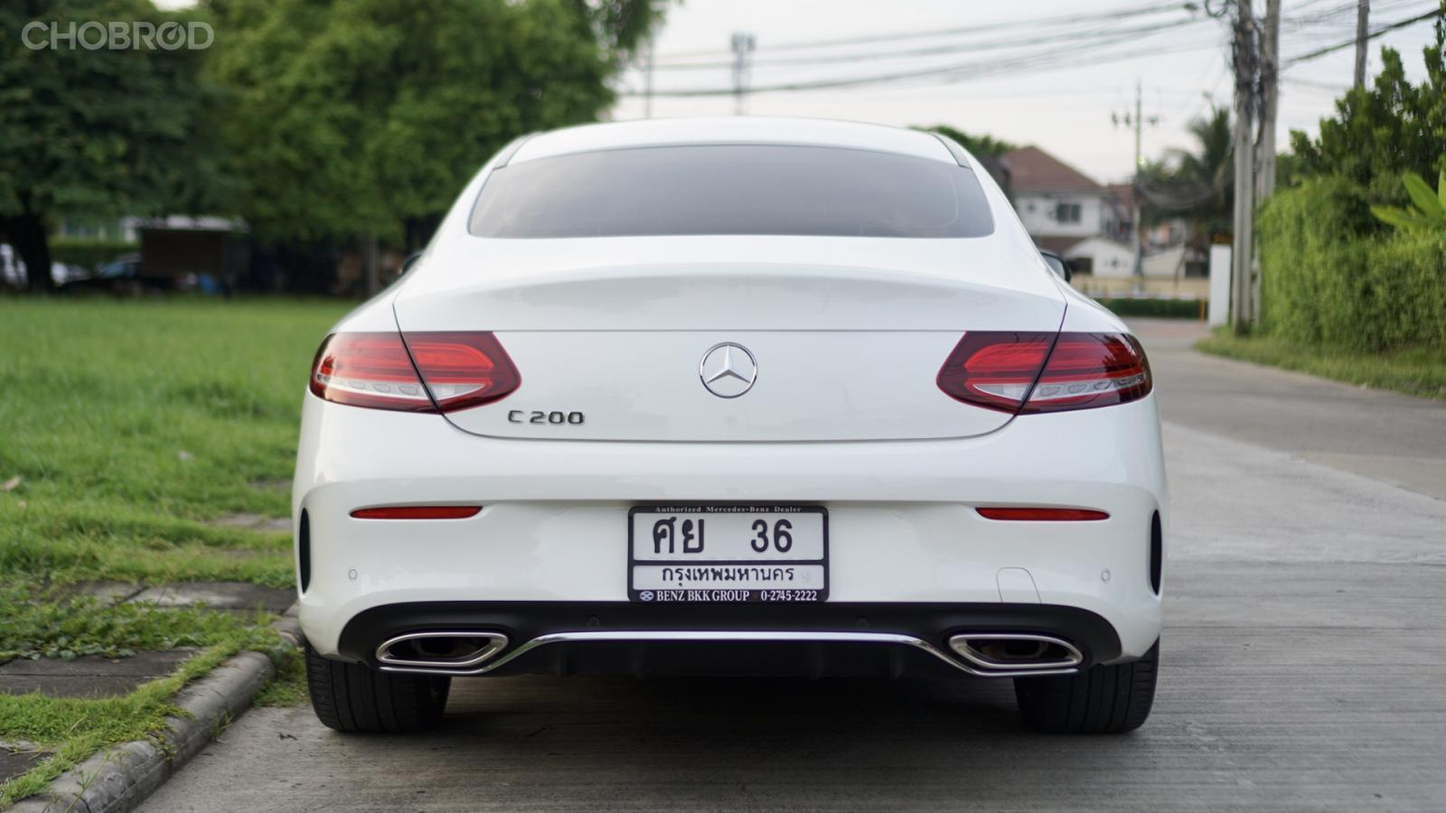license-plate: (625, 499, 834, 611)
